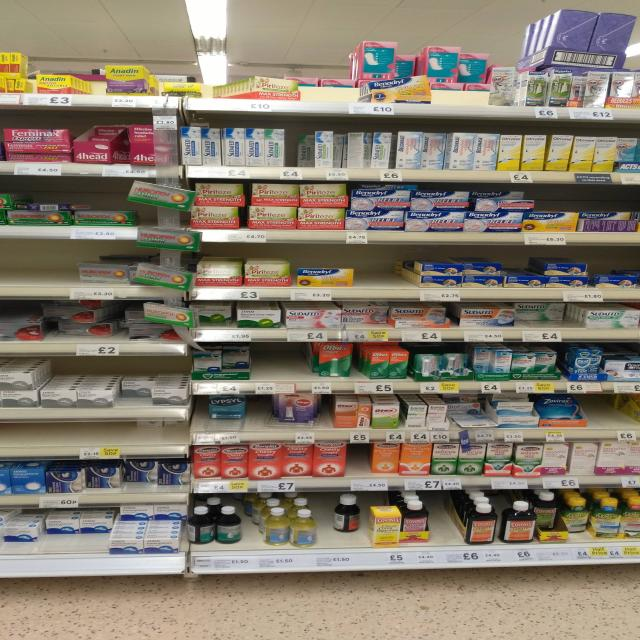void: (4, 239, 71, 298), (364, 253, 413, 302), (260, 346, 312, 391), (436, 500, 470, 568), (86, 420, 140, 461), (437, 75, 484, 118), (594, 395, 640, 437), (316, 74, 358, 120), (42, 422, 84, 462), (204, 67, 243, 109), (0, 423, 38, 458), (142, 432, 186, 458), (350, 445, 370, 479)
